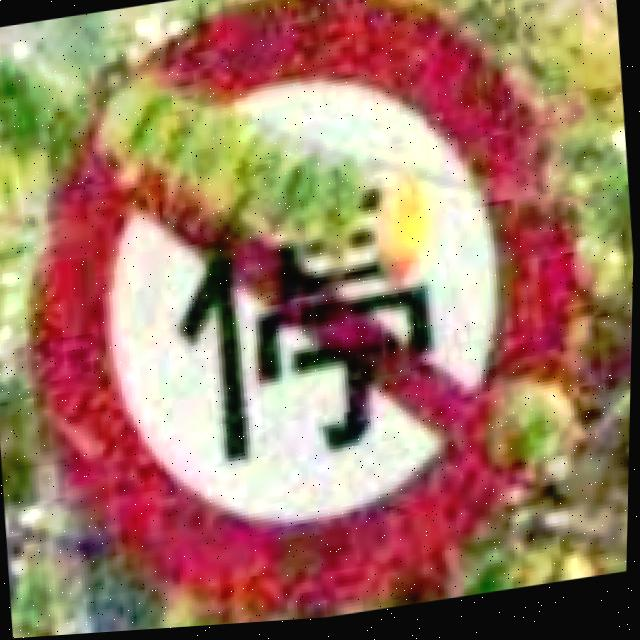nopark: (0, 0, 624, 640)
